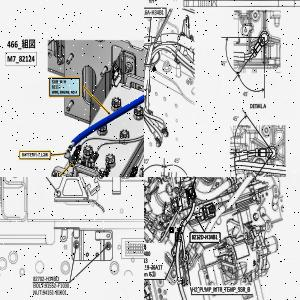PartNumber: (42, 289, 68, 297), (32, 276, 59, 282), (191, 234, 218, 240), (45, 283, 70, 289), (144, 9, 164, 15), (144, 264, 163, 270), (144, 250, 150, 257)
